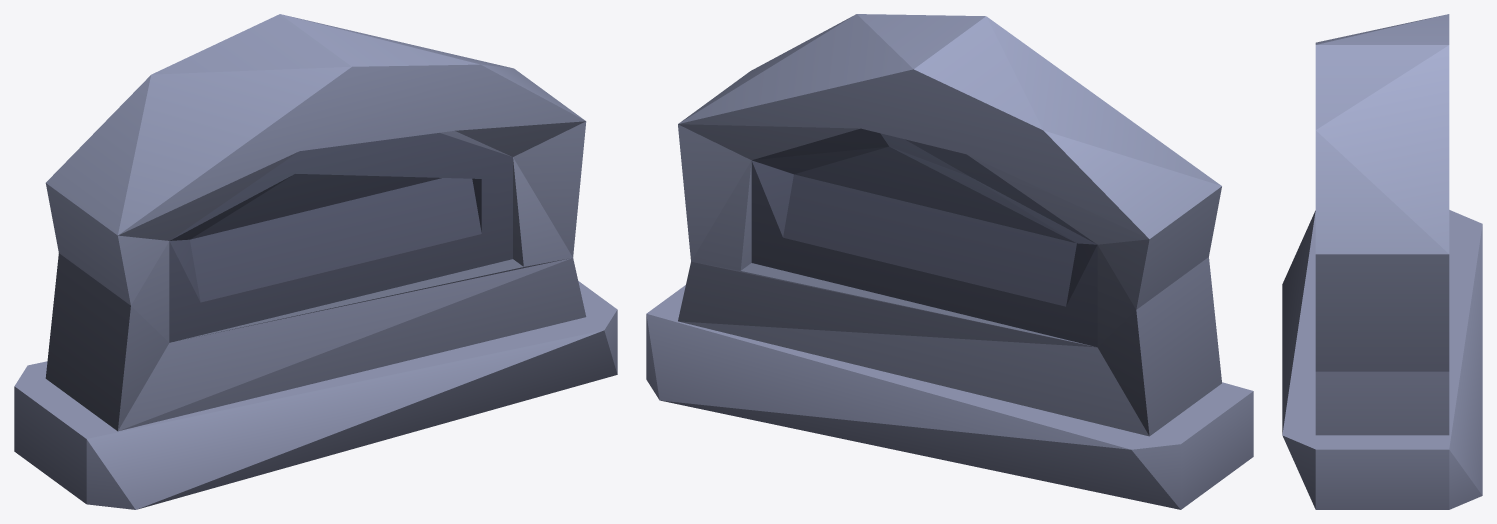
Rendered from K_gravestone-wide_lod.glb.
The picture shows the model from 3 angles, left to right: view 1: azimuth 30°, elevation 25°; view 2: azimuth 150°, elevation 25°; view 3: azimuth 270°, elevation 25°; orthographic projection. The views are drawn at different scales.
Visible parts, largest first — view 1: gravestone-wide; view 2: gravestone-wide; view 3: gravestone-wide.
Boxes of the visible parts, left/top/right/bottom form: gravestone-wide: left=14, top=14, right=617, bottom=509; gravestone-wide: left=646, top=14, right=1253, bottom=509; gravestone-wide: left=1282, top=14, right=1482, bottom=509.
Size of the model in its own units: 0.85 by 0.5703 by 0.3.
